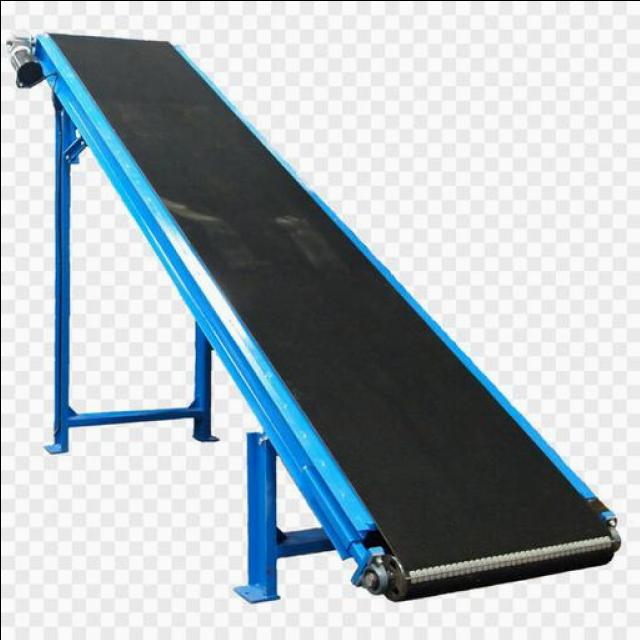conveyor: (51, 39, 617, 607)
